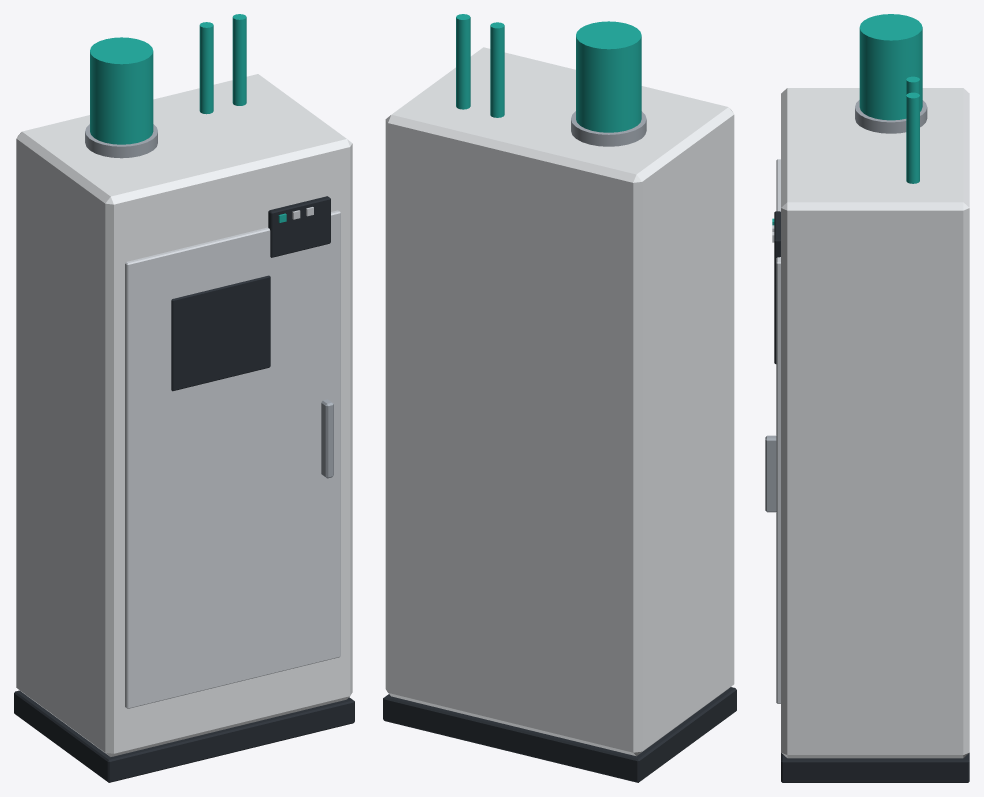
File: gas-cabinet.glb
3 renders of one model, left to right at view 1: azimuth 30°, elevation 25°; view 2: azimuth 150°, elevation 25°; view 3: azimuth 270°, elevation 25°, orthographic. The views are drawn at different scales.
Visible parts, largest first — view 1: gas-cabinet; view 2: gas-cabinet; view 3: gas-cabinet.
Part boxes in pixels (x1,y1,x2,y2): gas-cabinet: (14, 14, 354, 782); gas-cabinet: (383, 14, 736, 782); gas-cabinet: (765, 14, 969, 782).
Bounding box in the file's own units: 0.9 × 2.35 × 0.65.
